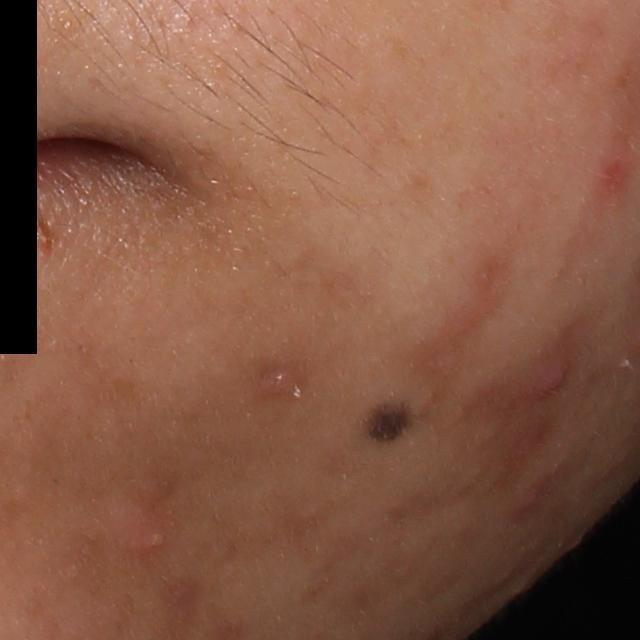nevus: (363, 397, 415, 443)
papule: (592, 140, 636, 205), (527, 350, 577, 404), (511, 482, 549, 521), (260, 370, 300, 397)
